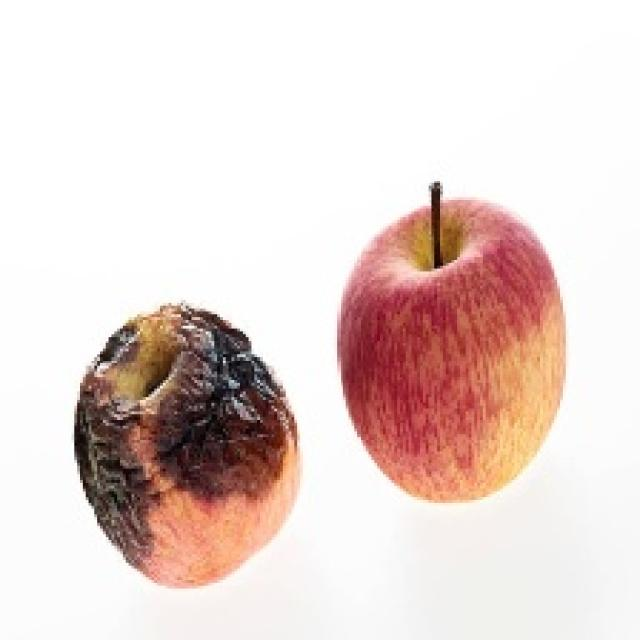rotten_apple: (81, 310, 294, 588)
